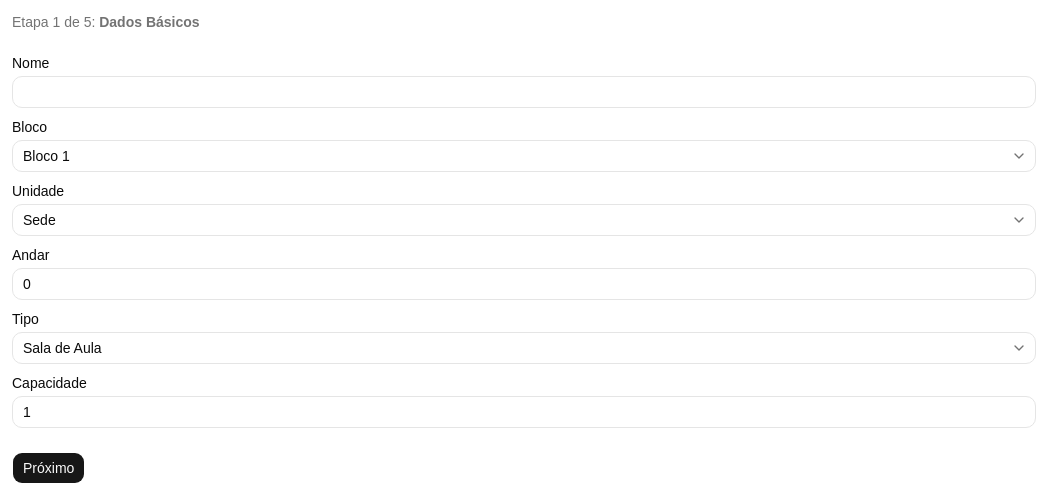
FormAmbiente › adiciona e remove pés-direitos
Type "Sala 01" into the field labelled "Nome".
click(524, 92); type("Sala 01")  # box [12,76,1036,108]
Click the button "Próximo".
click(49, 468)  # box [12,452,85,484]
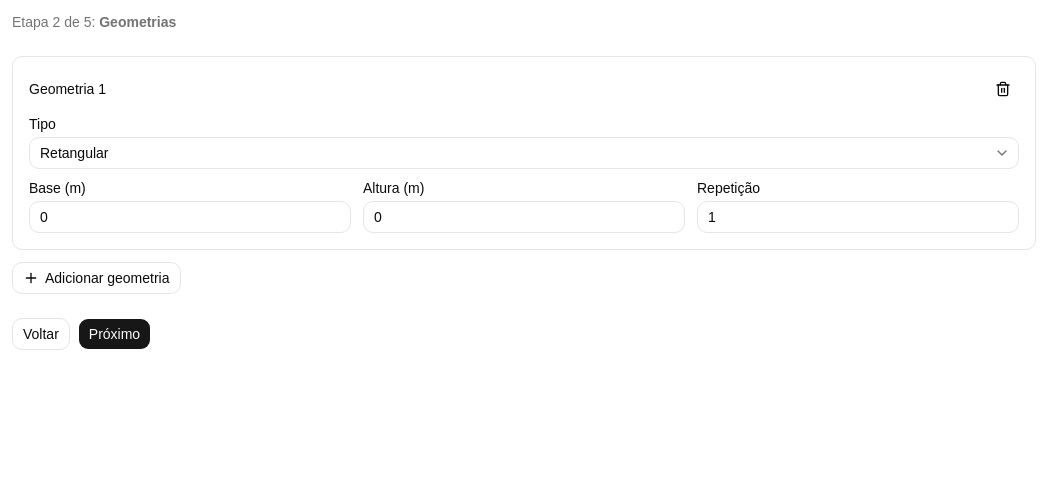
Replace the text in the number field labelled "Base (m)" with "4" at (190, 217), box [29,201,351,233]
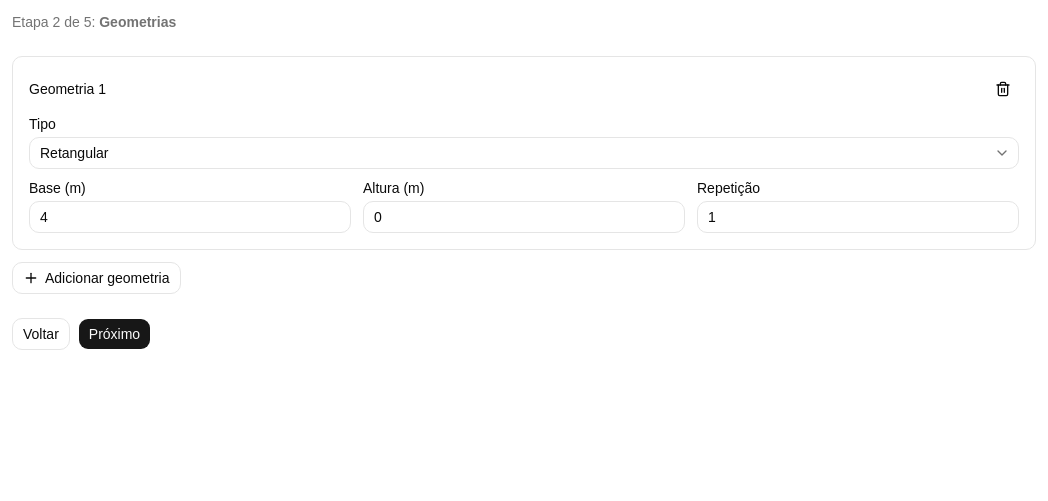
Replace the text in the number field labelled "Altura (m)" with "3" at (524, 217), box [363,201,685,233]
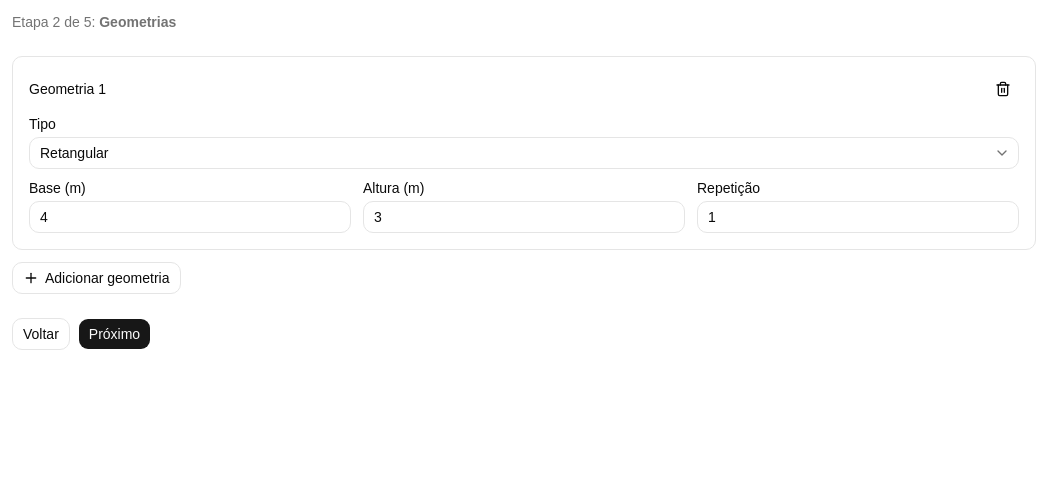
Click the button "Próximo".
click(114, 334)  # box [78,318,151,350]
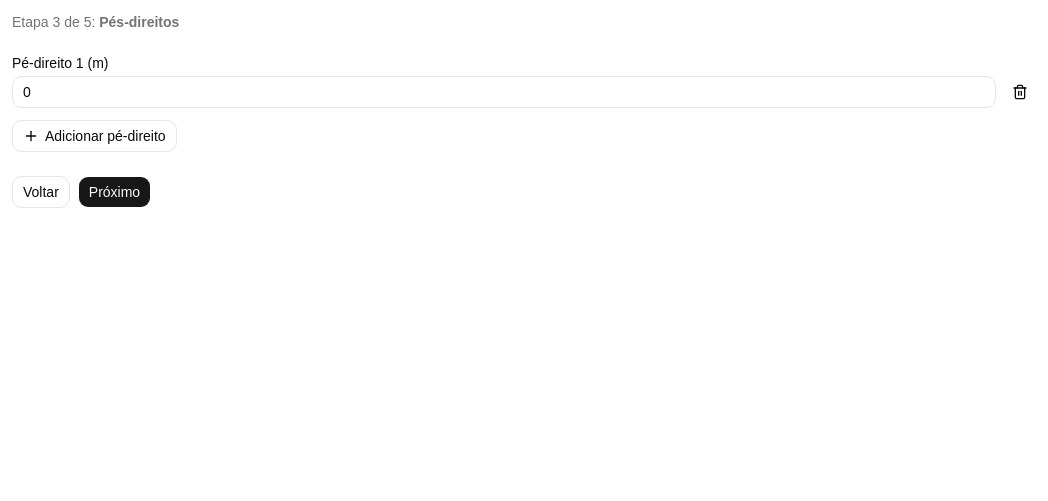
Click the button "Adicionar pé-direito".
click(94, 136)  # box [12,120,177,152]
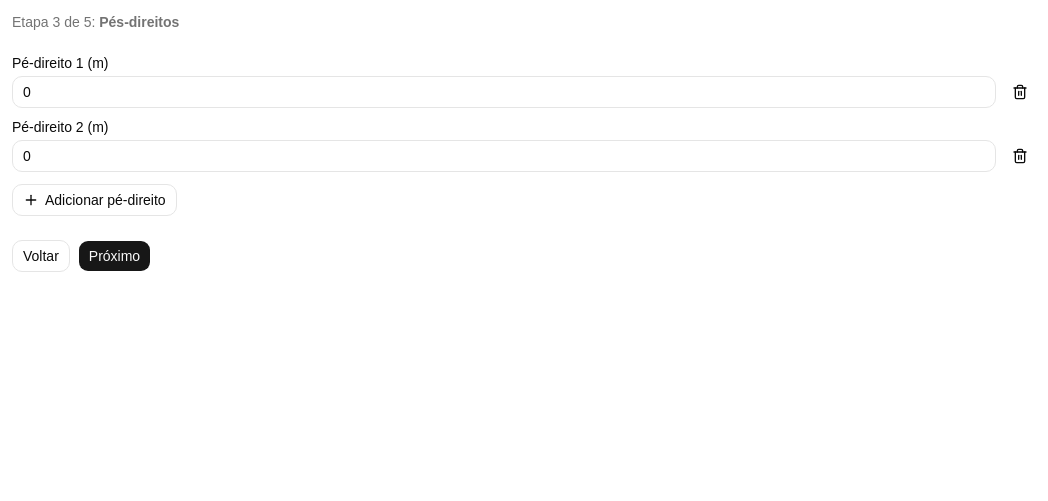
Expected: the number field labelled "Pé-direito 2 (m)" is shown, [12,140,996,172]
Click the button named "Remover pé-direito 2".
click(1020, 156)  # box [1004,140,1036,172]
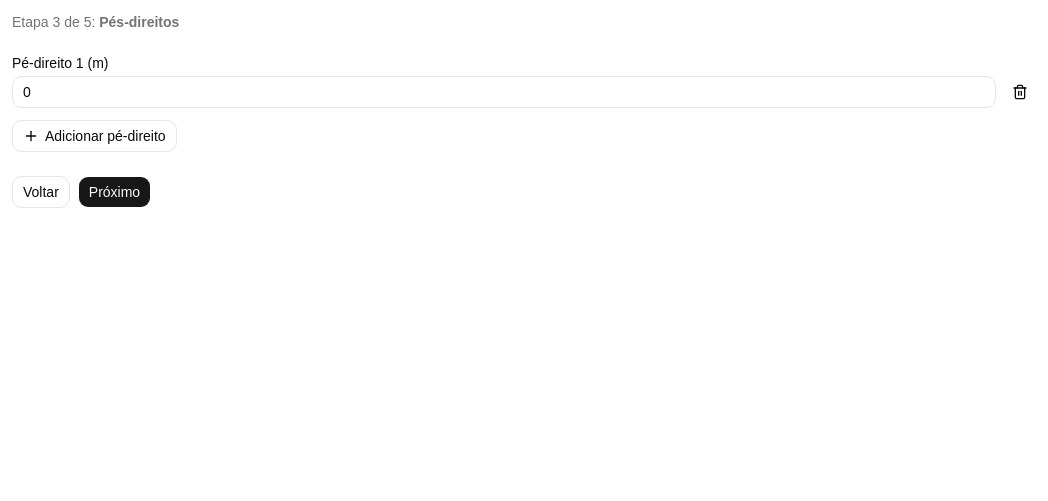
Expected: the label labelled "Pé-direito 2 (m)" is gone
